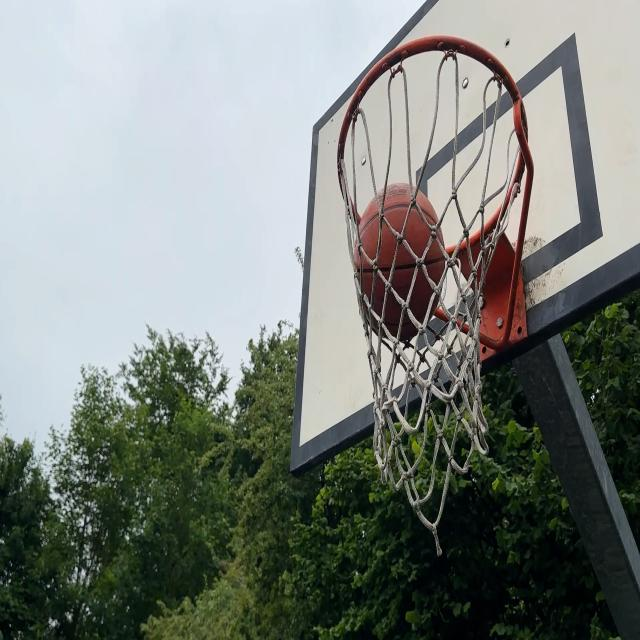Goal: (351, 185, 444, 337)
